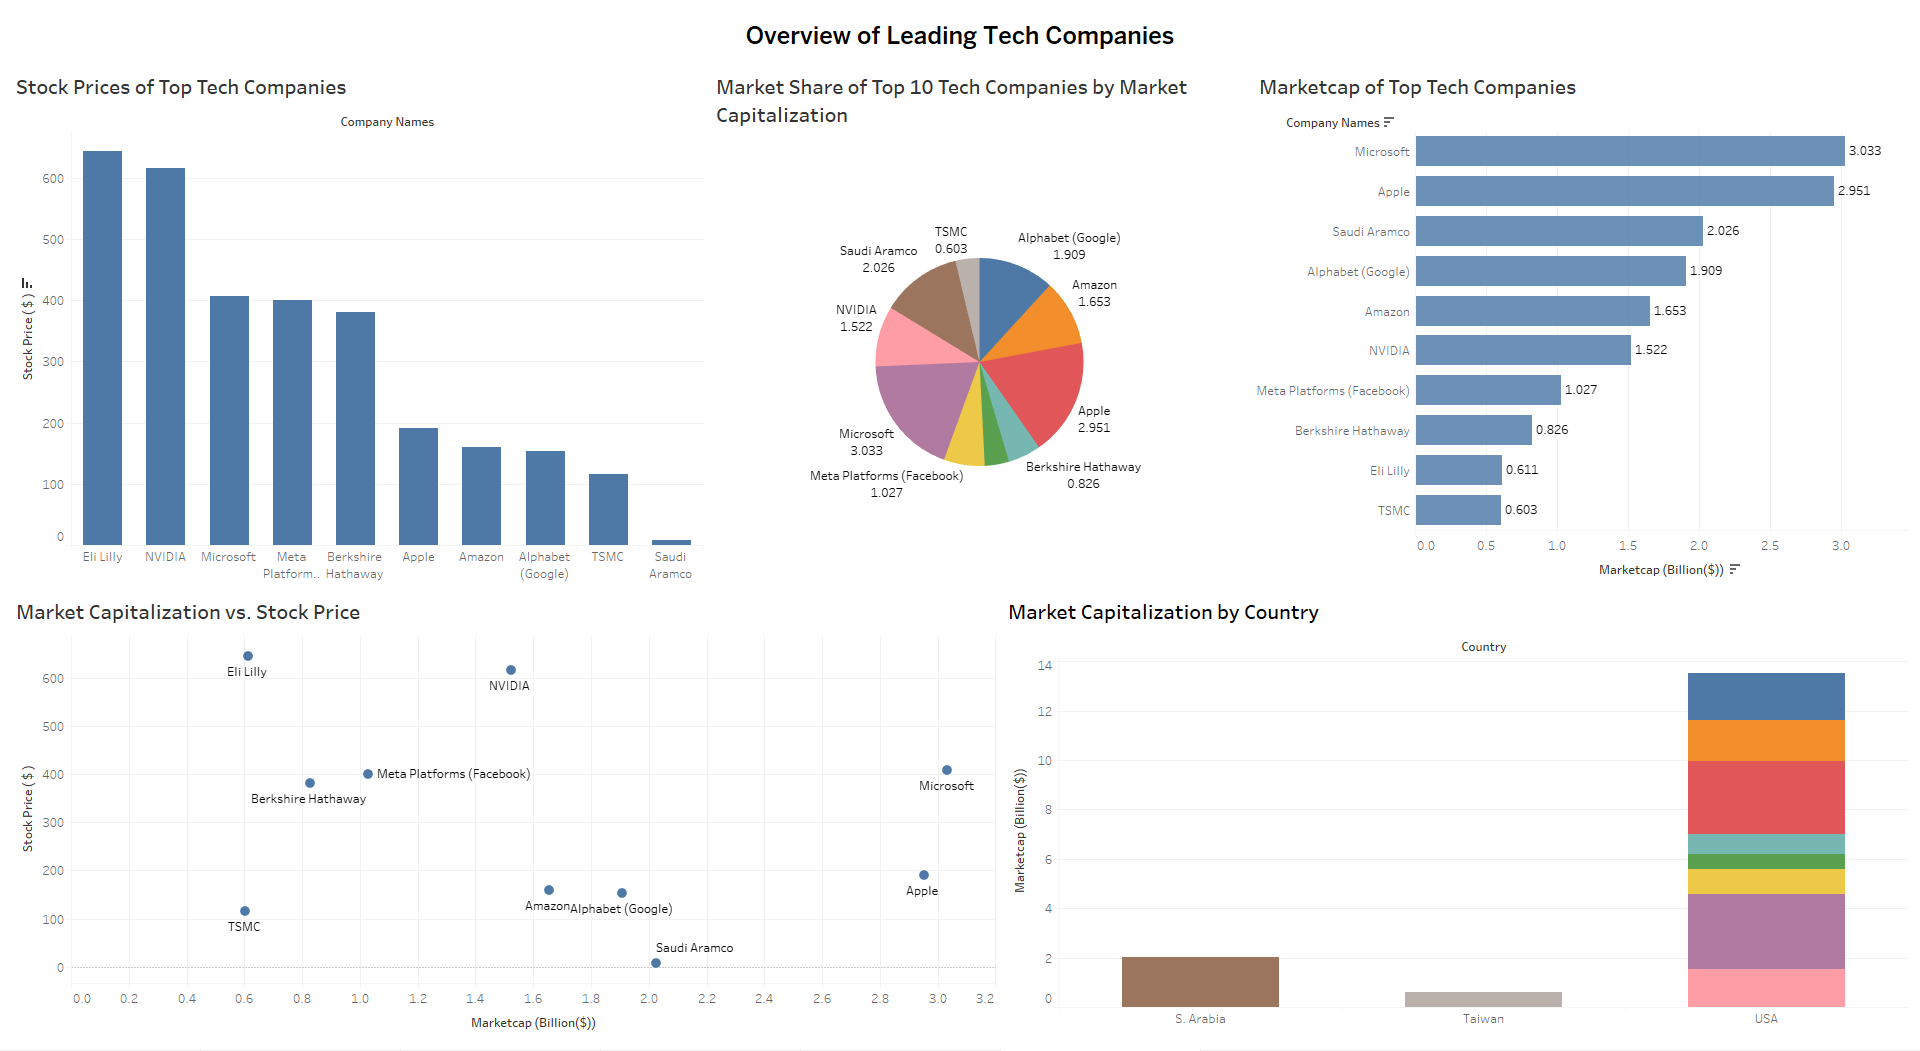

This screenshot's page, from the dashboard's own definition file:
{"tool":"tableau","page":{"name":" Overview of Leading Tech Companies","canvas":[1000,1000],"units":"permille","ordinal":0},"visuals":[{"type":"title","box":[4.7,8.9,990.6,62.5]},{"type":"worksheet","title":"Stock Prices of Top Tech Companies","mark":"Automatic","rows":["Stock Price ( $ )"],"cols":["Company Names"],"box":[4.7,71.4,363.9,494]},{"type":"worksheet","title":"Market Share of Top 10 Tech Companies by Market Capitalization (in Billions of USD)","mark":"Pie","box":[368.6,71.4,282.6,494]},{"type":"worksheet","title":"Marketcap of Top Tech Companies ","mark":"Automatic","rows":["Company Names"],"cols":["Marketcap (Billion($))"],"box":[651.2,71.4,344.1,494]},{"type":"worksheet","title":"Market Capitalization vs. Stock Price","mark":"Automatic","rows":["Stock Price ( $ )"],"cols":["Marketcap (Billion($))"],"box":[4.7,565.4,516,425.7]},{"type":"worksheet","title":"Market Capitalization by Country","mark":"Automatic","rows":["Marketcap (Billion($))"],"cols":["Country"],"box":[520.7,565.4,474.7,425.7]}]}

Visuals, with their boxes on the dashboard's canvas, which has no fixed pixel size, in thousandths of its width and height (x1, y1, x2, y2). These are canvas units, not pixel positions in the 1920x1051 screenshot, which may show the page scaled, cropped or inside an application window:
title: BBox(5, 9, 995, 71)
"Stock Prices of Top Tech Companies" worksheet: BBox(5, 71, 369, 565)
"Market Share of Top 10 Tech Companies by Market Capitalization (in Billions of USD)" worksheet (Pie marks): BBox(369, 71, 651, 565)
"Marketcap of Top Tech Companies " worksheet: BBox(651, 71, 995, 565)
"Market Capitalization vs. Stock Price" worksheet: BBox(5, 565, 521, 991)
"Market Capitalization by Country" worksheet: BBox(521, 565, 995, 991)
